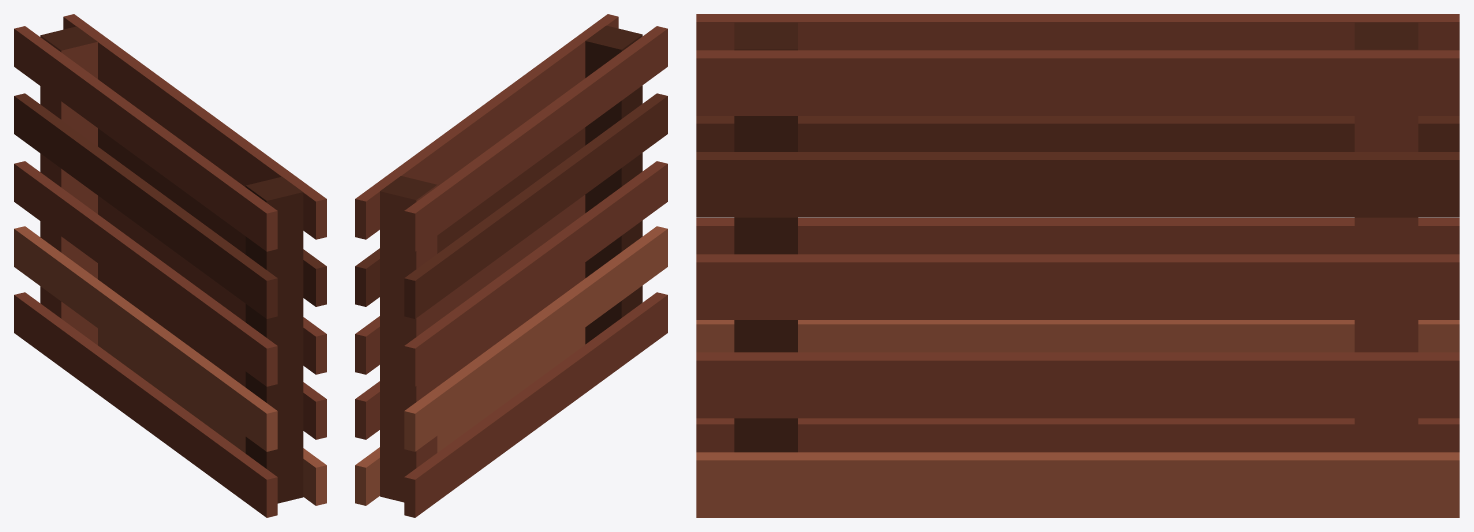
File: SM_Barriers_06.fbx
The picture shows the model from 3 angles, left to right: view 1: azimuth 30°, elevation 25°; view 2: azimuth 150°, elevation 25°; view 3: azimuth 270°, elevation 25°; orthographic projection. The views are drawn at different scales.
Visible parts, largest first — view 1: SM_Barriers_06; view 2: SM_Barriers_06; view 3: SM_Barriers_06.
Part boxes in pixels (bbox=[...]): SM_Barriers_06: bbox=[14, 14, 326, 517]; SM_Barriers_06: bbox=[355, 14, 667, 517]; SM_Barriers_06: bbox=[696, 14, 1459, 517].
Size of the model in its own units: 16.46 by 80 by 120.
